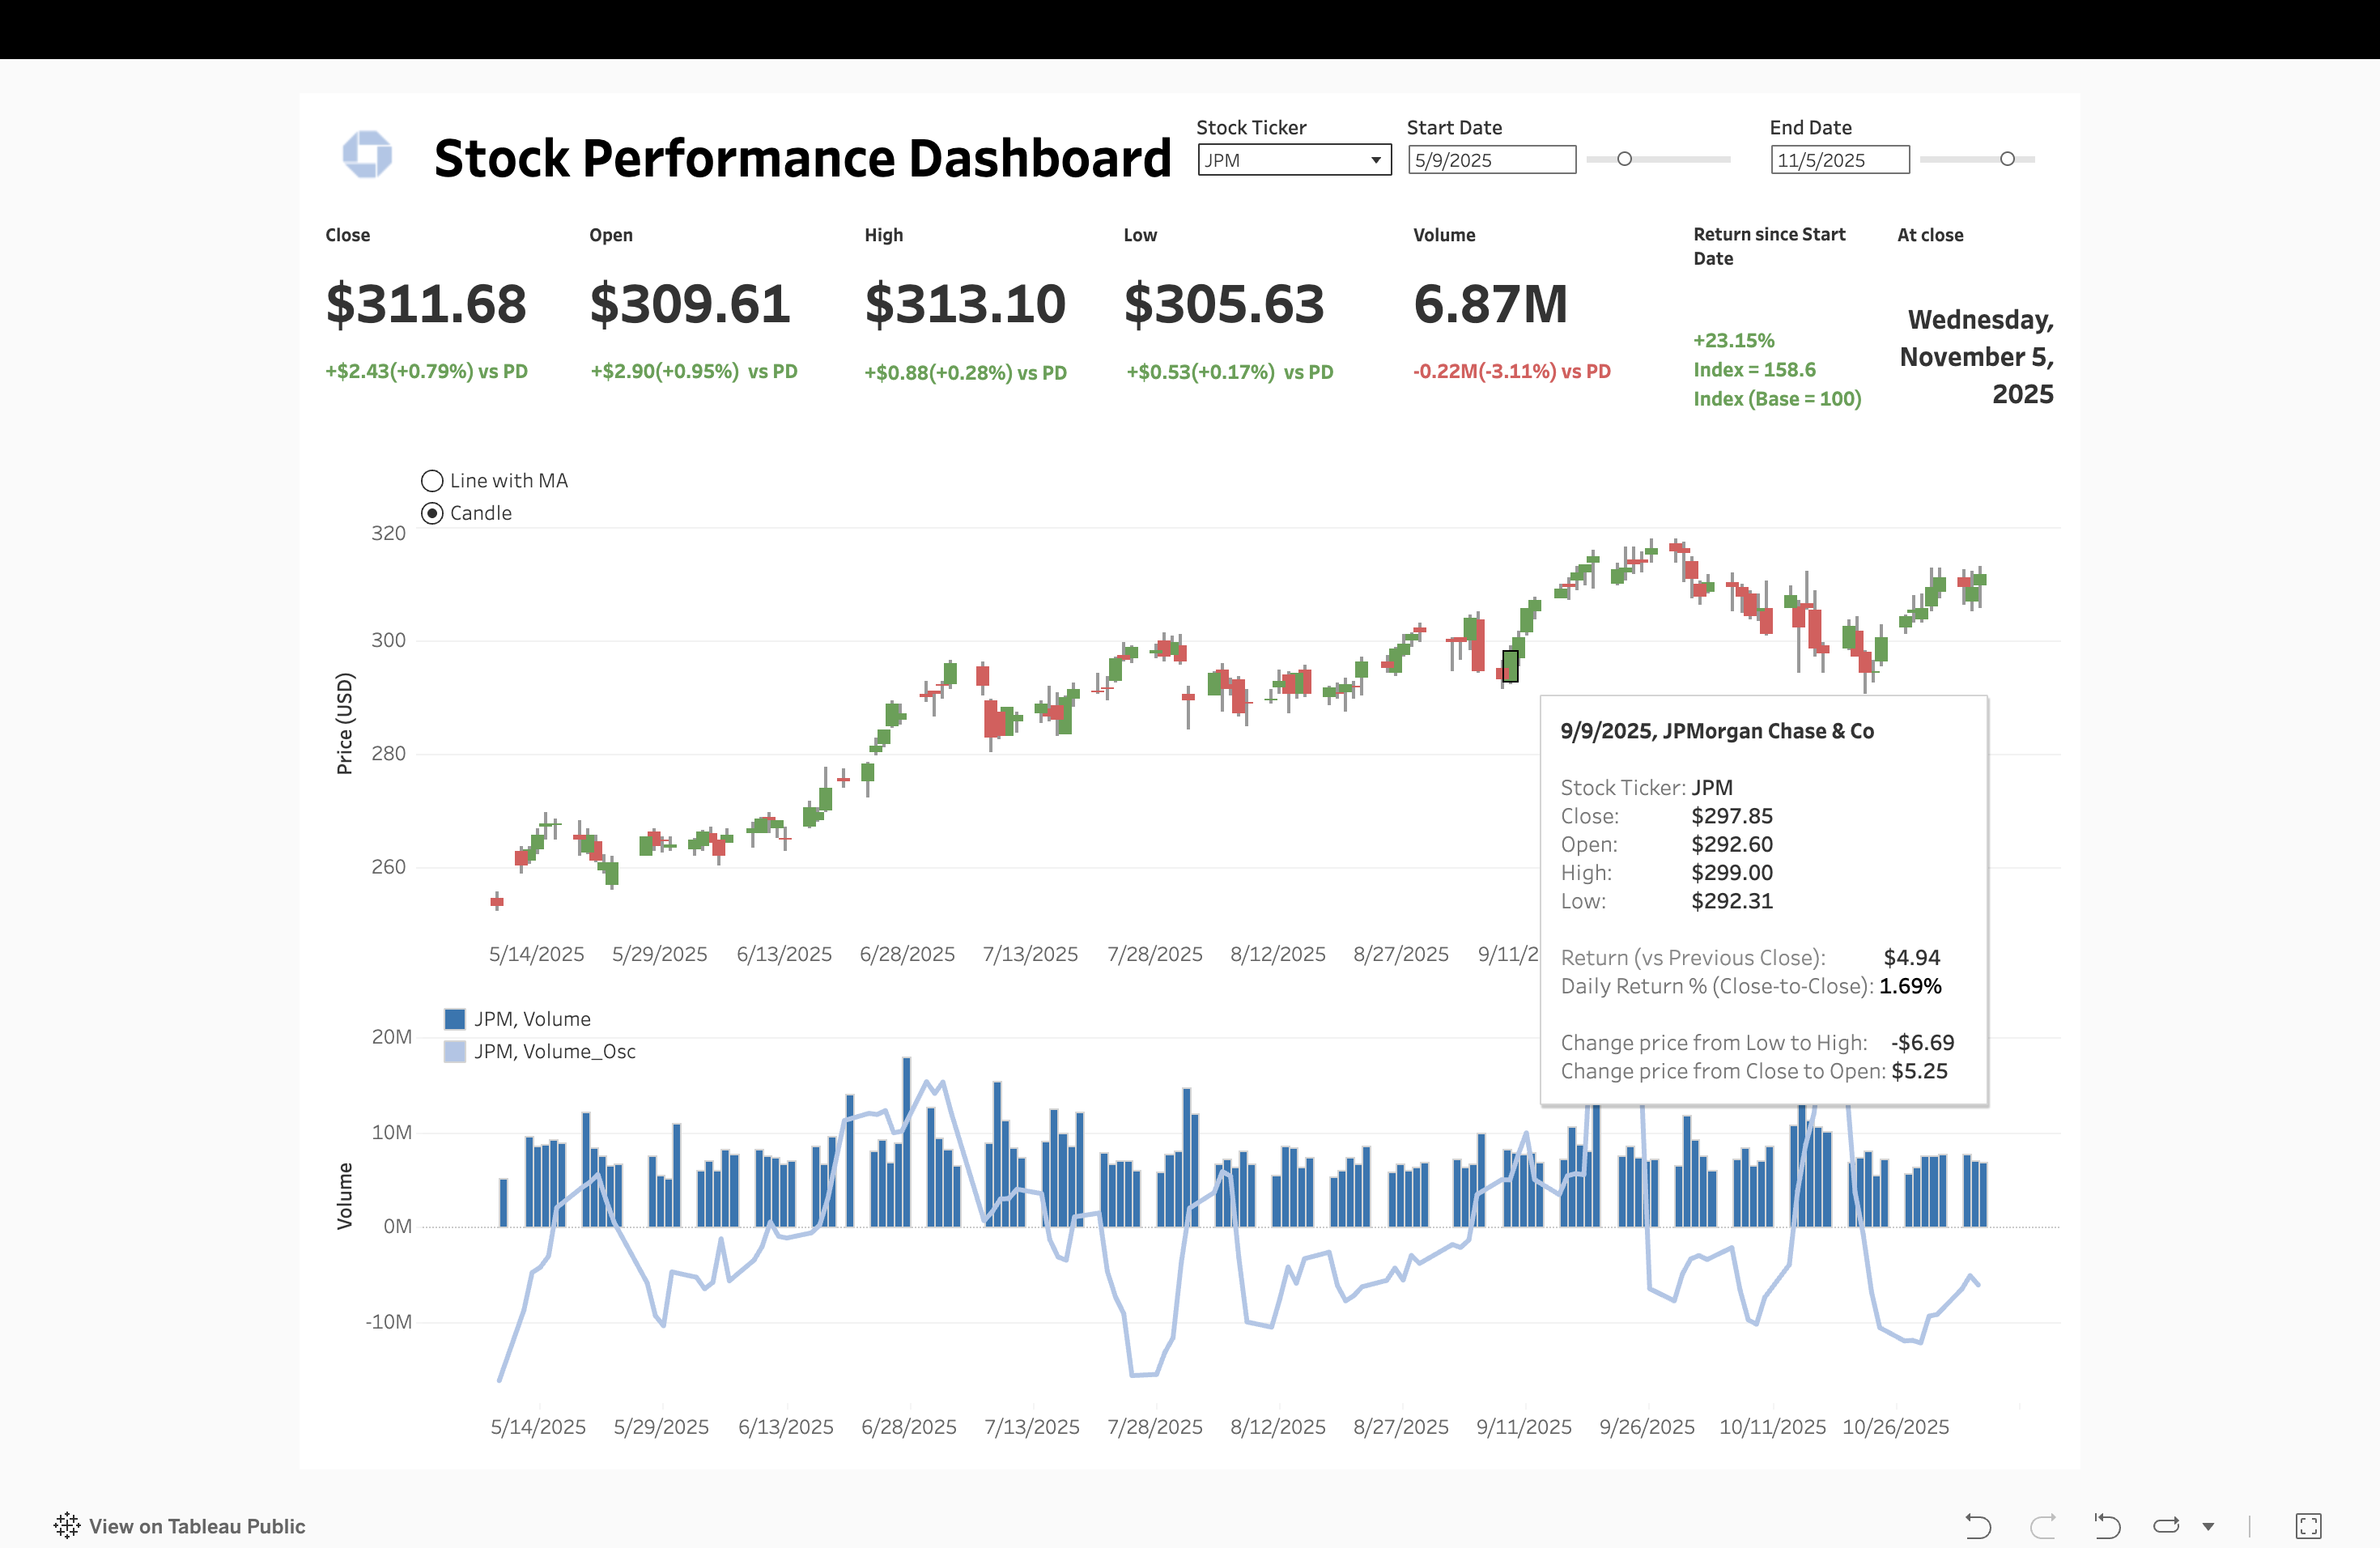

What the dashboard file says about the page in this screenshot:
{"tool":"tableau","page":{"name":"Dashboard 2","canvas":[1100,850],"ordinal":0},"visuals":[{"type":"worksheet","title":"Logo","mark":"Shape","cols":["Table Name","Calculation_6930758386276937736"],"box":[8,8,71,61]},{"type":"text","box":[79,8,471,61]},{"type":"filter","title":"Close ","param":"[federated.0ad32sr0dxy0wy13120sg0xdmw02].[none:Table Name:nk]","box":[550,8,130,61]},{"type":"parameter","param":"[Parameters].[Parameter 1]","box":[680,8,224,61]},{"type":"parameter","param":"[Parameters].[Parameter 2]","box":[904,8,188,61]},{"type":"worksheet","title":"Close ","mark":"Automatic","box":[8,69,163,96.8]},{"type":"worksheet","title":"Open","mark":"Automatic","box":[171,69,170,96.2]},{"type":"worksheet","title":"High","mark":"Automatic","box":[341,69,160,96.2]},{"type":"worksheet","title":"Low","mark":"Automatic","box":[501,69,179,96.2]},{"type":"worksheet","title":"Volume","mark":"Automatic","box":[680,69,172.7,96.2]},{"type":"worksheet","title":"Return since Start Date","mark":"Automatic","box":[852.6,69,119.6,170]},{"type":"worksheet","title":"Last Day Text ","mark":"Automatic","box":[972.3,69,119.7,170]},{"type":"worksheet","title":"Open compare PD","mark":"Automatic","box":[171,165.2,170,73.8]},{"type":"worksheet","title":"High compare PD","mark":"Automatic","box":[341,165.2,160,73.8]},{"type":"worksheet","title":"Low compare PD","mark":"Automatic","box":[501,165.2,179,73.8]},{"type":"worksheet","title":"Volume compare PD","mark":"Automatic","box":[680,165.2,172.7,73.8]},{"type":"worksheet","title":"Close comapare PD","mark":"Automatic","box":[8,165.8,163,73.2]},{"type":"parameter","param":"[Parameters].[Parameter 3]","box":[71,229,121,46]},{"type":"worksheet","title":"Price with MA","mark":"Line","rows":["Close"],"cols":["Date"],"box":[8,239,1084,1]},{"type":"worksheet","title":"Legend","mark":"Shape","cols":["Close"],"box":[8,240,1084,32]},{"type":"worksheet","title":"Candle Stick","mark":"GanttBar","rows":["Open","High"],"cols":["Date"],"box":[8,272,1084,285]},{"type":"worksheet","title":"Volume bar","mark":"Bar","rows":["Volume","Volume_Osc"],"cols":["Date"],"box":[8,557,1084,285]}]}

Visuals, with their boxes on the page's 1100x850 design canvas (x1, y1, x2, y2). These are canvas units, not pixel positions in the 2380x1548 screenshot, which may show the page scaled, cropped or inside an application window:
"Logo" worksheet (Shape marks): BBox(8, 8, 79, 69)
text: BBox(79, 8, 550, 69)
"Close " filter: BBox(550, 8, 680, 69)
parameter: BBox(680, 8, 904, 69)
parameter: BBox(904, 8, 1092, 69)
"Close " worksheet: BBox(8, 69, 171, 166)
"Open" worksheet: BBox(171, 69, 341, 165)
"High" worksheet: BBox(341, 69, 501, 165)
"Low" worksheet: BBox(501, 69, 680, 165)
"Volume" worksheet: BBox(680, 69, 853, 165)
"Return since Start Date" worksheet: BBox(853, 69, 972, 239)
"Last Day Text " worksheet: BBox(972, 69, 1092, 239)
"Open compare PD" worksheet: BBox(171, 165, 341, 239)
"High compare PD" worksheet: BBox(341, 165, 501, 239)
"Low compare PD" worksheet: BBox(501, 165, 680, 239)
"Volume compare PD" worksheet: BBox(680, 165, 853, 239)
"Close comapare PD" worksheet: BBox(8, 166, 171, 239)
parameter: BBox(71, 229, 192, 275)
"Price with MA" worksheet (Line marks): BBox(8, 239, 1092, 240)
"Legend" worksheet (Shape marks): BBox(8, 240, 1092, 272)
"Candle Stick" worksheet (GanttBar marks): BBox(8, 272, 1092, 557)
"Volume bar" worksheet (Bar marks): BBox(8, 557, 1092, 842)
